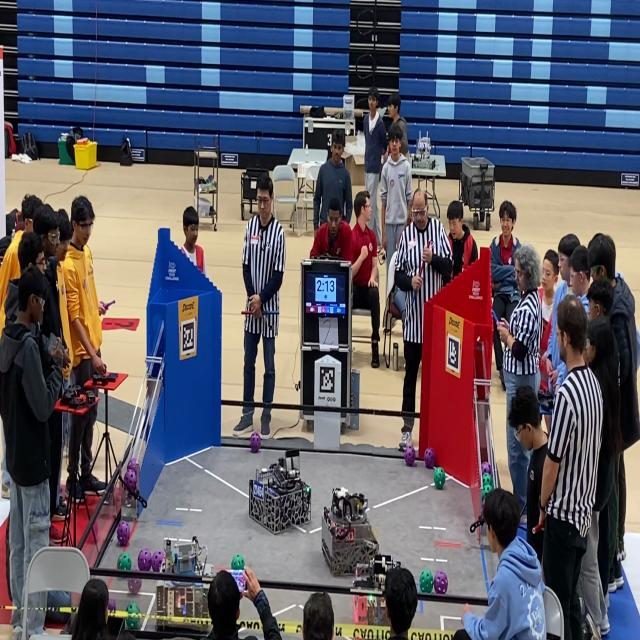artifact_green: (126, 601, 141, 630), (420, 569, 433, 593), (117, 552, 132, 571), (434, 467, 445, 489), (231, 555, 244, 570), (481, 485, 493, 499), (481, 486, 492, 501), (482, 473, 493, 487), (481, 474, 493, 485), (108, 598, 116, 614), (481, 462, 491, 473), (482, 483, 494, 490), (305, 485, 311, 494)
artifact_purple: (117, 521, 130, 546), (434, 571, 447, 594), (138, 549, 151, 571), (124, 469, 137, 491), (151, 551, 164, 572), (250, 432, 261, 453), (404, 445, 415, 466), (128, 578, 141, 595), (424, 448, 435, 468), (127, 458, 137, 471), (481, 462, 491, 474), (108, 598, 116, 612)
